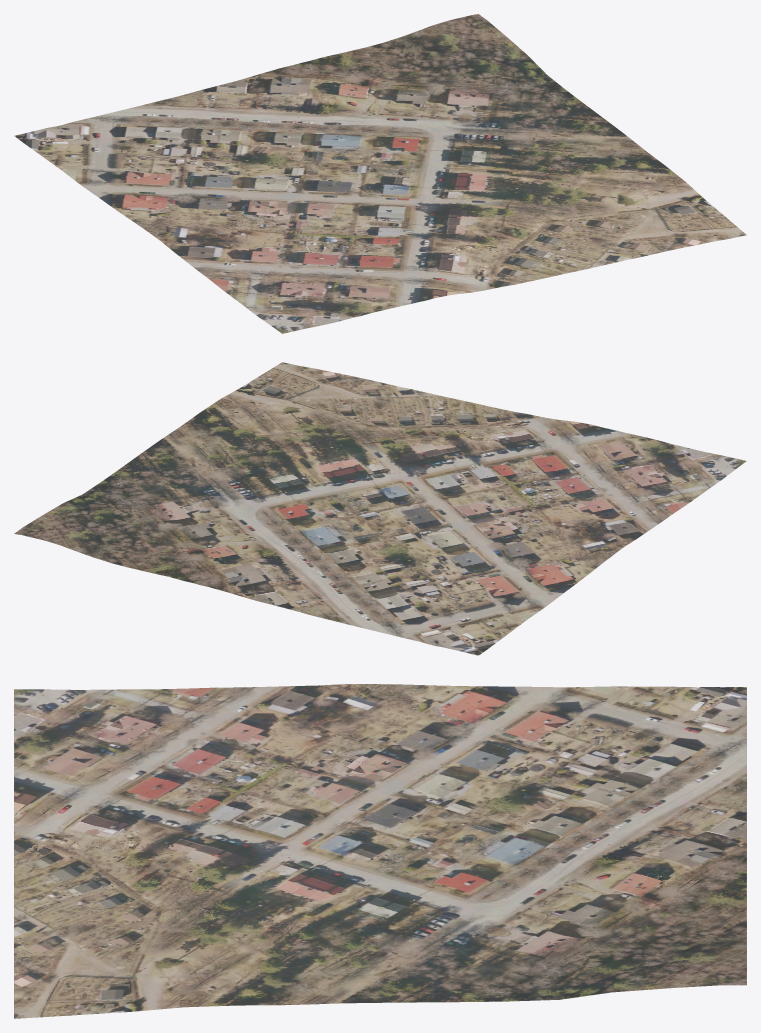
Rendered from CM_Terrain_24489434_6821841.fbx.
3 views of the same model, one above another, from view 1: azimuth 30°, elevation 25°; view 2: azimuth 150°, elevation 25°; view 3: azimuth 270°, elevation 25° (orthographic). The views are drawn at different scales.
Visible parts, largest first — view 1: CM_Terrain_24489434_6821841_LOD0; view 2: CM_Terrain_24489434_6821841_LOD0; view 3: CM_Terrain_24489434_6821841_LOD0.
Boxes of the visible parts, x1,y1,x2,y2 form: CM_Terrain_24489434_6821841_LOD0: (14,14,746,333); CM_Terrain_24489434_6821841_LOD0: (14,362,746,655); CM_Terrain_24489434_6821841_LOD0: (14,684,746,1018).
Size of what is drawn, in the model's own units: 205 by 10.76 by 205.
